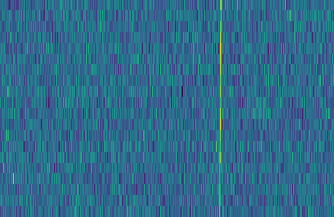signal: (215, 0, 226, 217)
